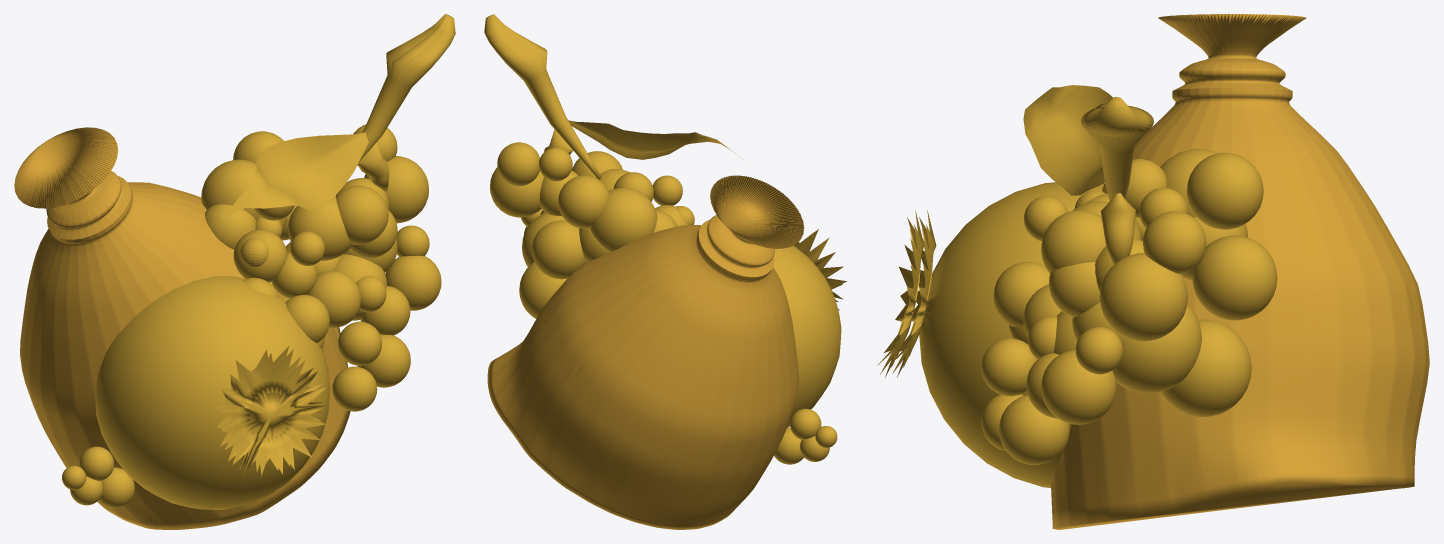
Rendered from food(mesh).fbx.
3 renders of one model, left to right at view 1: azimuth 30°, elevation 25°; view 2: azimuth 150°, elevation 25°; view 3: azimuth 270°, elevation 25°, orthographic. The views are drawn at different scales.
Visible parts, largest first — view 1: stemShoot; view 2: stemShoot; view 3: stemShoot.
Boxes of the visible parts, <box> form: stemShoot: <box>14,14,455,529</box>; stemShoot: <box>484,14,846,529</box>; stemShoot: <box>877,14,1429,529</box>.
Bounding box in the file's own units: 794 × 887 × 749.
